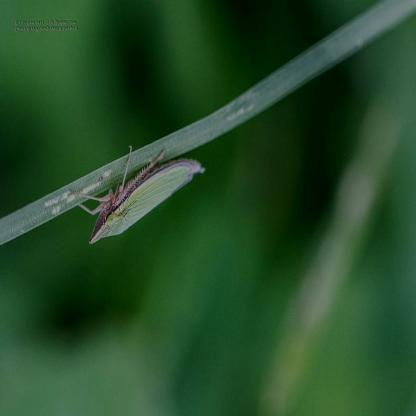green-leafhopper: (67, 138, 208, 250)
